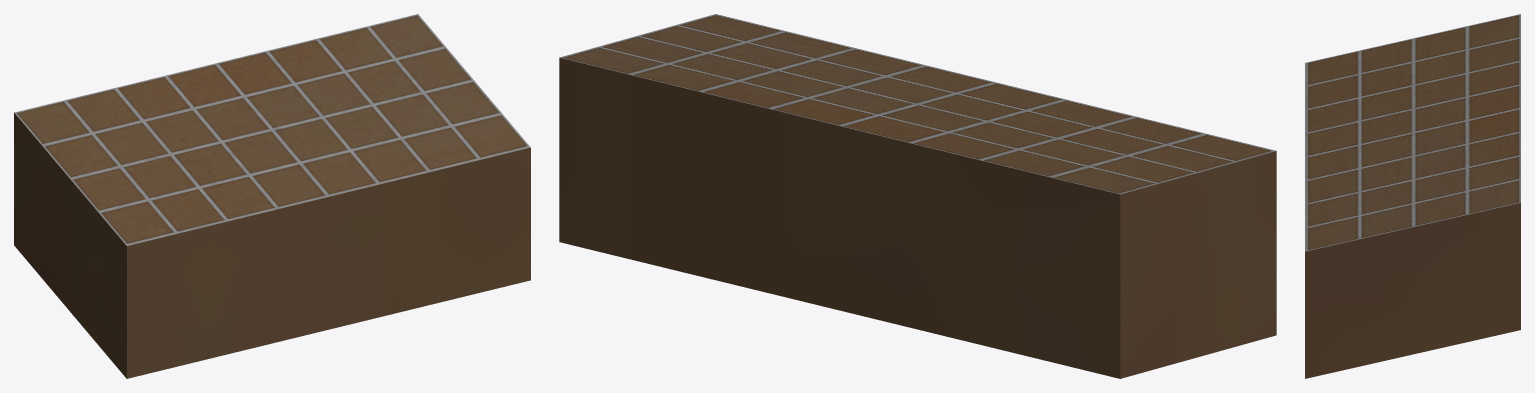
File: set_floor_02_slope_loop.fbx
3 views of the same model, side by side, from view 1: azimuth 30°, elevation 25°; view 2: azimuth 150°, elevation 25°; view 3: azimuth 270°, elevation 25° (orthographic). The views are drawn at different scales.
Visible parts, largest first — view 1: set_floor_02_slope_loop; view 2: set_floor_02_slope_loop; view 3: set_floor_02_slope_loop.
Part boxes in pixels (x1,y1,x2,y2): set_floor_02_slope_loop: [14, 14, 530, 378]; set_floor_02_slope_loop: [559, 14, 1276, 378]; set_floor_02_slope_loop: [1305, 14, 1520, 378].
Size of the model in its own units: 200 by 87 by 96.64.
